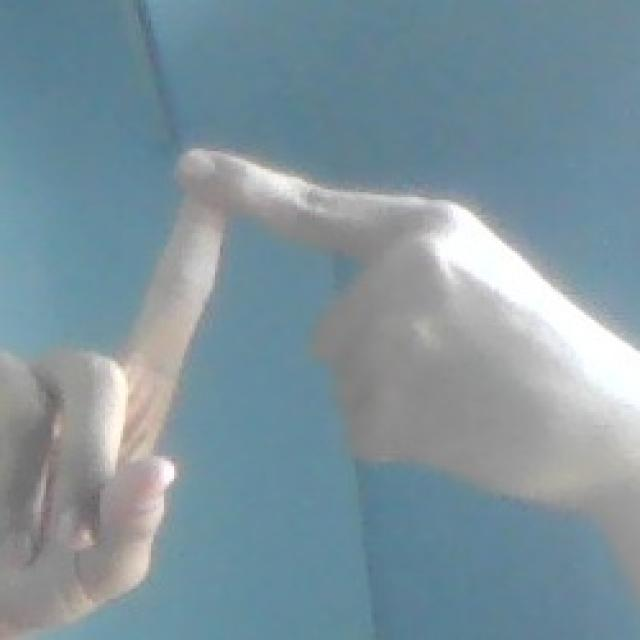Alphabet-E: (0, 113, 635, 585)
